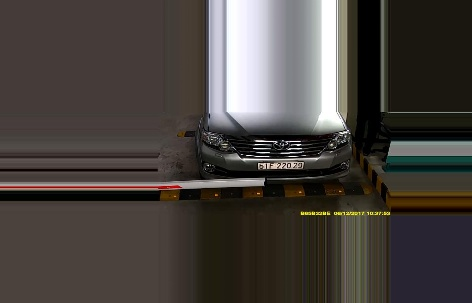plate: (256, 159, 305, 169)
